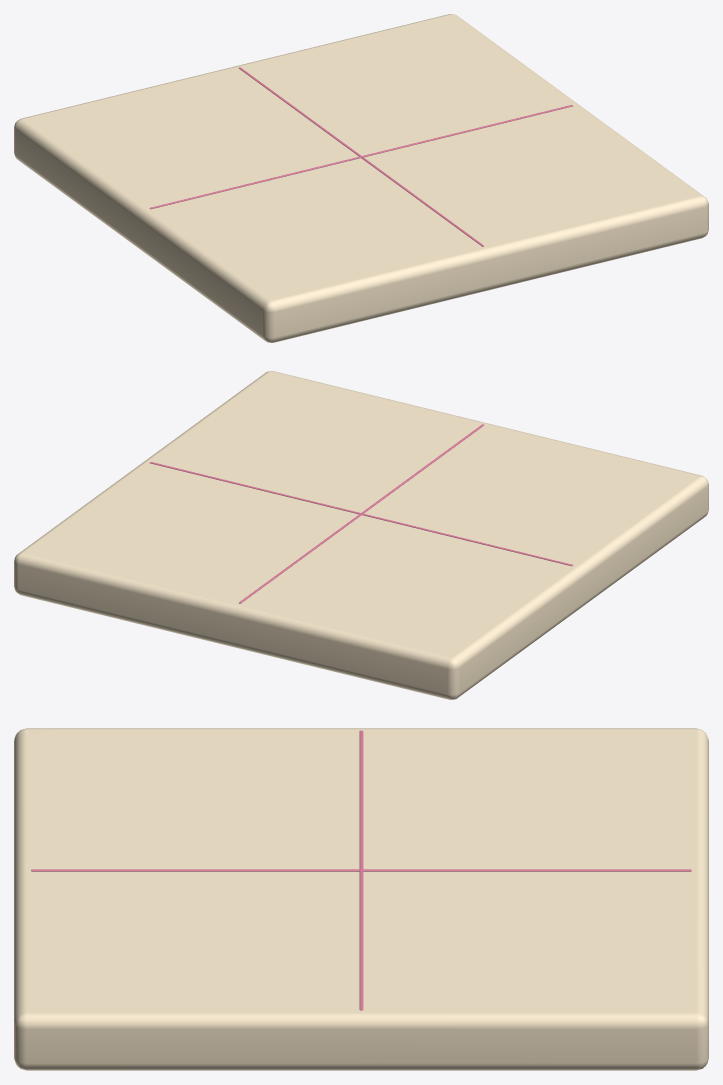
The model's file is Floor_expansion_tile.fbx.
3 views of the same model, one above another, from view 1: azimuth 30°, elevation 25°; view 2: azimuth 150°, elevation 25°; view 3: azimuth 270°, elevation 25° (orthographic). The views are drawn at different scales.
Parts seen in each view (by area): view 1: Toon_Floor_expansion_tile Floor tile.001, Toon_Floor_expansion_tile Tile seam.003, Toon_Floor_expansion_tile Tile seam.002; view 2: Toon_Floor_expansion_tile Floor tile.001, Toon_Floor_expansion_tile Tile seam.003, Toon_Floor_expansion_tile Tile seam.002; view 3: Toon_Floor_expansion_tile Floor tile.001, Toon_Floor_expansion_tile Tile seam.002, Toon_Floor_expansion_tile Tile seam.003.
Part boxes in pixels (x1,y1,x2,y2): Toon_Floor_expansion_tile Floor tile.001: [14, 14, 708, 342]; Toon_Floor_expansion_tile Tile seam.003: [149, 105, 572, 209]; Toon_Floor_expansion_tile Tile seam.002: [238, 67, 483, 246]; Toon_Floor_expansion_tile Floor tile.001: [14, 371, 708, 699]; Toon_Floor_expansion_tile Tile seam.003: [150, 462, 573, 566]; Toon_Floor_expansion_tile Tile seam.002: [239, 424, 484, 603]; Toon_Floor_expansion_tile Floor tile.001: [14, 728, 708, 1070]; Toon_Floor_expansion_tile Tile seam.002: [31, 869, 691, 871]; Toon_Floor_expansion_tile Tile seam.003: [359, 730, 363, 1010].
Bounding box in the file's own units: 100 × 9.2 × 100.
